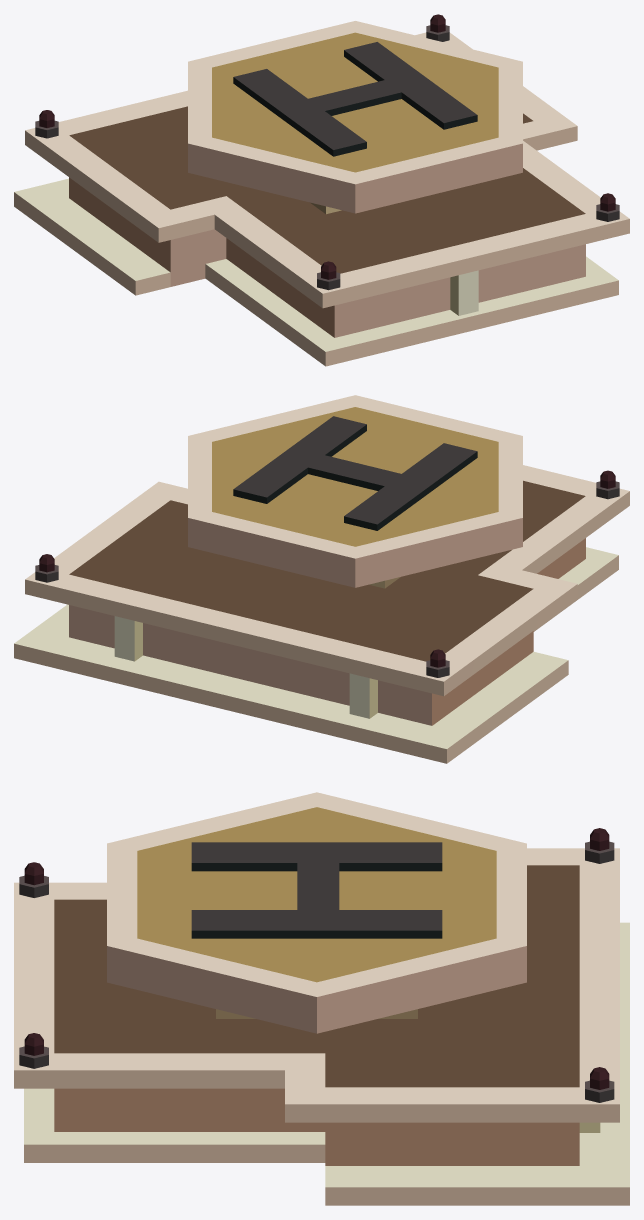
Rendered from TB_CITY_Skysc_B_Top_Brown.FBX.
3 renders of one model, top to bottom at view 1: azimuth 30°, elevation 25°; view 2: azimuth 150°, elevation 25°; view 3: azimuth 270°, elevation 25°, orthographic. The views are drawn at different scales.
Parts seen in each view (by area): view 1: TB_CITY_Skysc_B_Top_Brown; view 2: TB_CITY_Skysc_B_Top_Brown; view 3: TB_CITY_Skysc_B_Top_Brown.
Boxes of the visible parts, box(x1,y1,x2,y2) form: TB_CITY_Skysc_B_Top_Brown: box(14, 14, 629, 366); TB_CITY_Skysc_B_Top_Brown: box(14, 395, 629, 763); TB_CITY_Skysc_B_Top_Brown: box(14, 792, 629, 1205).
Bounding box in the file's own units: 31 × 10.21 × 30.5.
